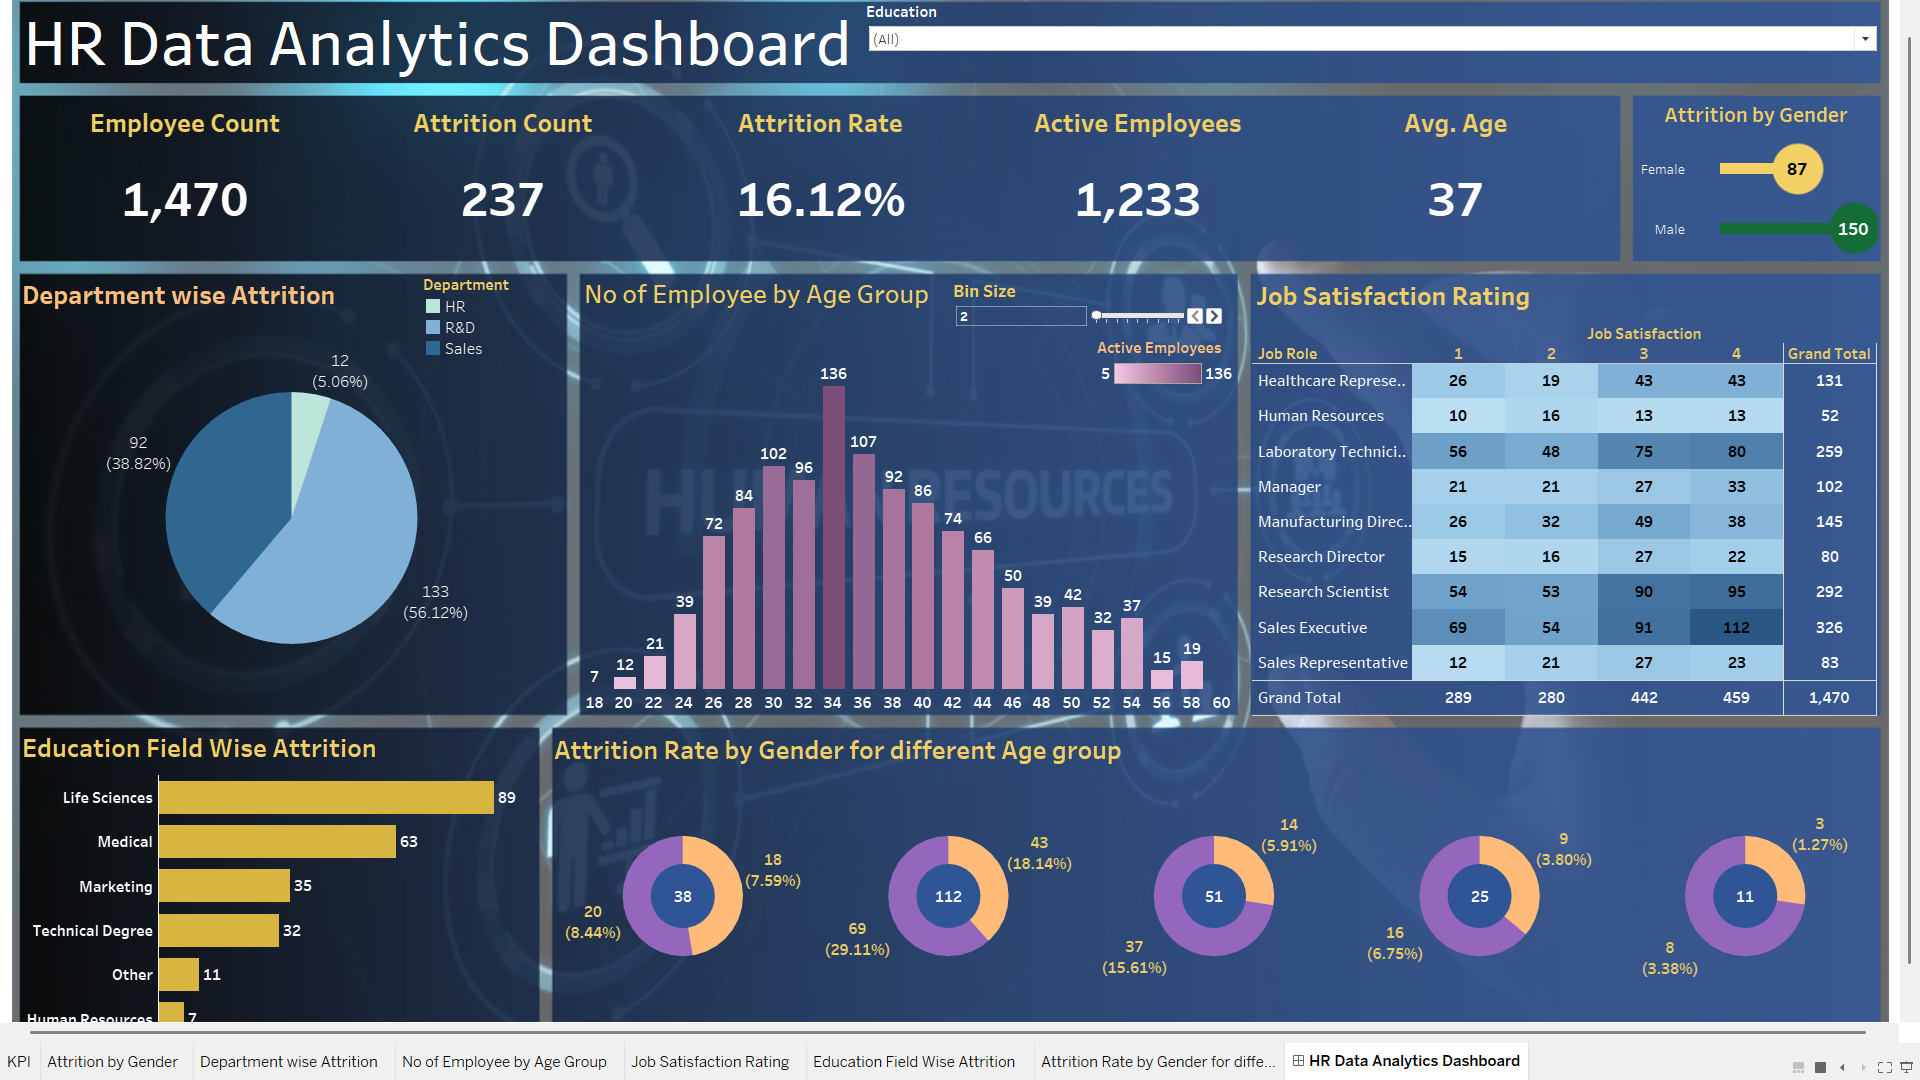

The dashboard page shown, as its layout file describes it:
{"tool":"tableau","page":{"name":"HR Data Analytics Dashboard","canvas":[1920,1080],"ordinal":0},"visuals":[{"type":"image","param":"C:/Users/prame/Desktop/Specalization/Data_Analysis_And_Visuvalization/Practice/T","box":[8,8,1904,1064]},{"type":"text","box":[29,18,872,82]},{"type":"filter","title":"Department wise Attrition","param":"[federated.1f9hffg087ghbx10co1311ochpfs].[none:Education:nk]","box":[875,19,1014,83]},{"type":"worksheet","title":"Attrition by Gender","mark":"Bar","rows":["Gender"],"cols":["Calculation_1883912064466493440","Calculation_1883912064466493440"],"box":[1643,114,244,162]},{"type":"worksheet","title":"KPI","mark":"Automatic","box":[35,117,1589,156]},{"type":"worksheet","title":"No of Employee by Age Group","mark":"Automatic","rows":["Calculation_1883912064468987906"],"cols":["Age (bin)"],"box":[589,290,657,442]},{"type":"worksheet","title":"Department wise Attrition","mark":"Pie","box":[27,291,547,441]},{"type":"legend","title":"Department wise Attrition","param":"[federated.1f9hffg087ghbx10co1311ochpfs].[none:Department:nk]","box":[432,292,140,85]},{"type":"worksheet","title":"Job Satisfaction Rating","mark":"Square","rows":["Job Role"],"cols":["Job Satisfaction"],"box":[1261,292,625,442]},{"type":"parameter","param":"[Parameters].[Parameter 1]","box":[962,297,272,48]},{"type":"legend","title":"Attrition by Gender","param":"[federated.1f9hffg087ghbx10co1311ochpfs].[none:Gender:nk]","box":[358,323,140,64]},{"type":"legend","title":"No of Employee by Age Group","param":"[federated.1f9hffg087ghbx10co1311ochpfs].[usr:Calculation_1883912064468987906:qk","box":[1106,355,140,88]},{"type":"worksheet","title":"Education Field Wise Attrition","mark":"Automatic","rows":["Education Field"],"cols":["Calculation_1883912064466493440"],"box":[27,744,521,315]},{"type":"worksheet","title":"Attrition Rate by Gender for different Age group","mark":"Pie","rows":["Calculation_176203380986789889","Calculation_176203380986789889"],"cols":["CF_age band"],"box":[559,746,1328,312]}]}

Visuals, with their boxes in screenshot pixels (x1, y1, x2, y2):
image: box=[8, 0, 1886, 1032]
text: box=[29, 0, 889, 74]
"Department wise Attrition" filter: box=[863, 0, 1863, 76]
"Attrition by Gender" worksheet (Bar marks): box=[1620, 87, 1861, 247]
"KPI" worksheet: box=[35, 90, 1602, 244]
"No of Employee by Age Group" worksheet: box=[581, 261, 1229, 697]
"Department wise Attrition" worksheet (Pie marks): box=[27, 262, 566, 697]
"Department wise Attrition" legend: box=[426, 263, 564, 347]
"Job Satisfaction Rating" worksheet (Square marks): box=[1244, 263, 1860, 699]
parameter: box=[949, 268, 1217, 315]
"Attrition by Gender" legend: box=[353, 294, 491, 357]
"No of Employee by Age Group" legend: box=[1091, 325, 1229, 412]
"Education Field Wise Attrition" worksheet: box=[27, 709, 540, 1019]
"Attrition Rate by Gender for different Age group" worksheet (Pie marks): box=[551, 711, 1861, 1018]
